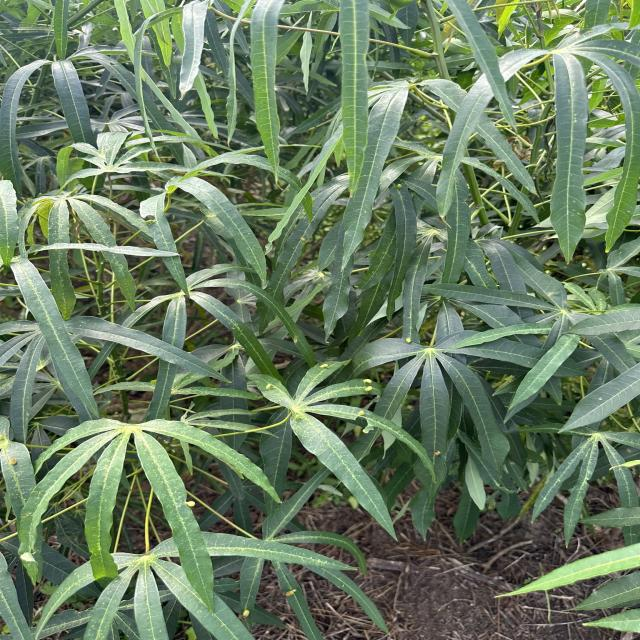Mosca: (174, 491, 207, 515), (283, 580, 306, 611), (228, 595, 255, 621), (254, 381, 278, 401), (8, 448, 25, 474), (430, 439, 449, 462), (358, 370, 374, 397), (287, 329, 302, 353), (355, 408, 373, 427), (398, 332, 420, 346), (318, 355, 334, 374), (393, 177, 409, 194)
